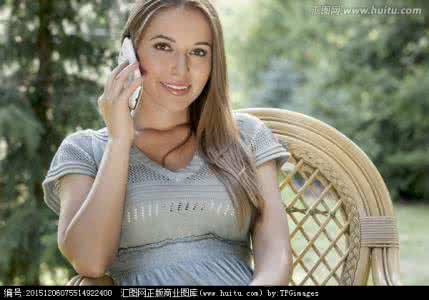phone: (116, 36, 148, 105)
